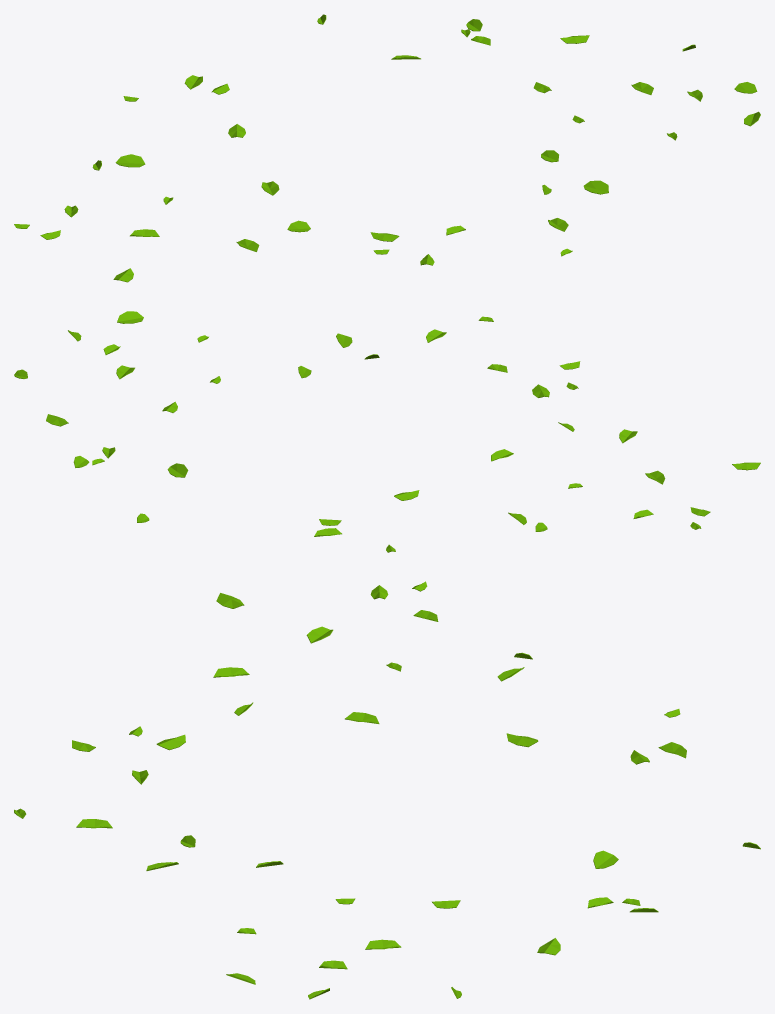
File: Leaves_pile_3.fbx
3 renders of one model, top to bottom at view 1: azimuth 30°, elevation 25°; view 2: azimuth 150°, elevation 25°; view 3: azimuth 270°, elevation 25°, orthographic. The views are drawn at different scales.
Parts seen in each view (by area): view 1: Leaves_pile.3; view 2: Leaves_pile.3; view 3: Leaves_pile.3.
Boxes of the visible parts, box(x1,y1,x2,y2) form: Leaves_pile.3: box(14, 14, 760, 282); Leaves_pile.3: box(14, 311, 760, 552); Leaves_pile.3: box(14, 581, 760, 999).
Size of the model in its own units: 685 by 5.86 by 521.
